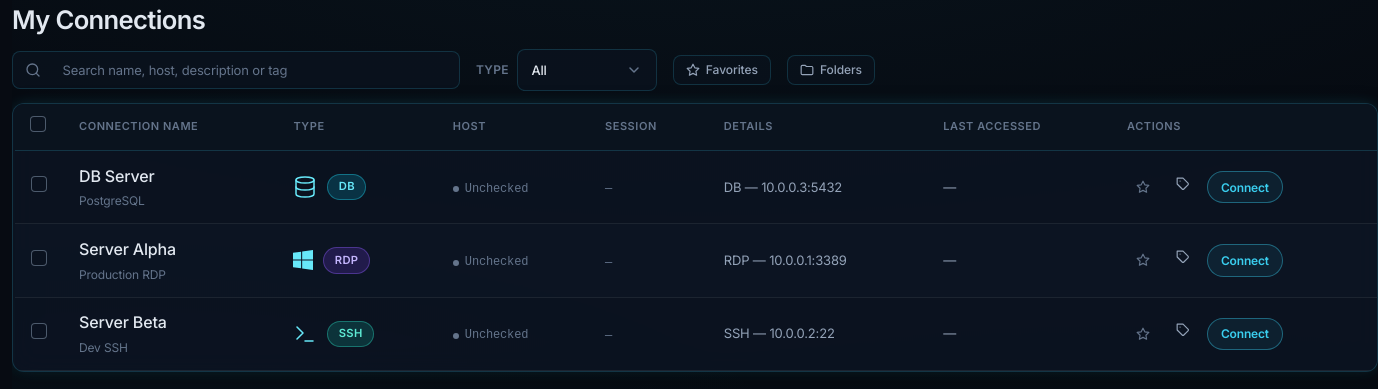
Dashboard › filters connections by protocol type selector
The width and height of the screenshot is (1378, 389).
Expected: the text "Server Alpha" is shown, [79,239,176,259]
Open the type dropdown and select SSH
Click the button "All".
click(587, 70)  # box [517,49,657,91]
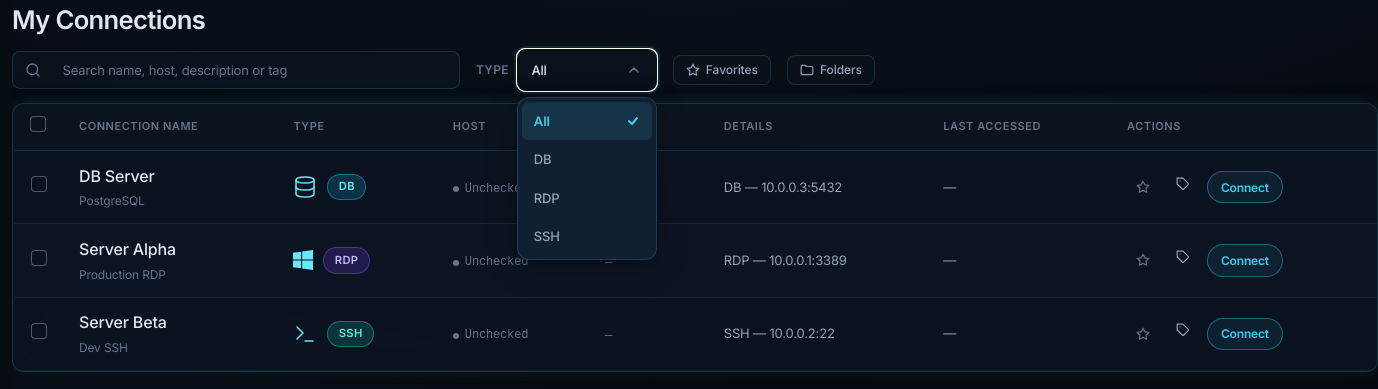
Click the option "SSH".
click(547, 236)  # box [534,228,560,244]
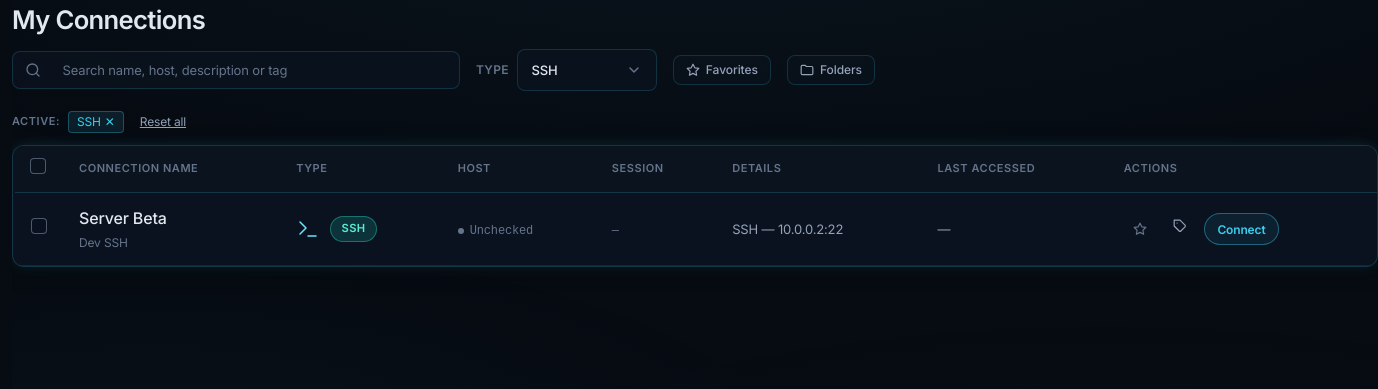
Expected: the text "Server Beta" is shown, [79,208,167,228]
Expected: the text "Server Alpha" is gone
